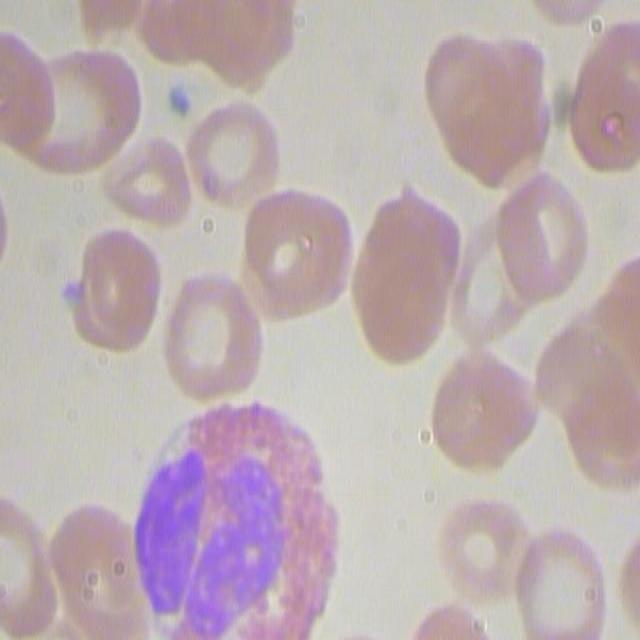RBC: (421, 13, 556, 194), (538, 288, 636, 501), (2, 37, 143, 184), (347, 193, 464, 365), (234, 180, 355, 326), (34, 496, 134, 640), (492, 168, 594, 308), (134, 0, 298, 85), (428, 351, 537, 473), (163, 277, 265, 405), (177, 92, 281, 214), (70, 221, 166, 353), (566, 7, 640, 172), (99, 124, 195, 249), (509, 524, 610, 637), (436, 490, 530, 608)
WBC: (137, 396, 342, 640)
